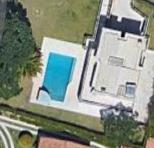pool: (38, 49, 79, 106)
